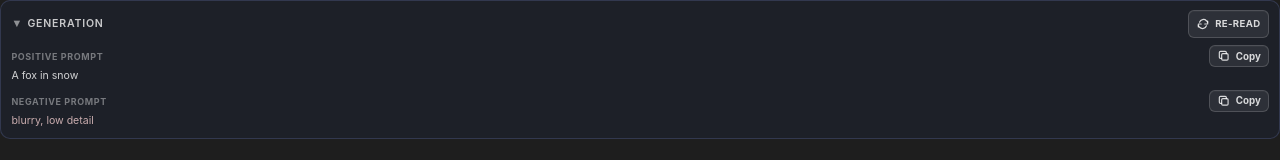
Scenario: reusable metadata content sections › copies each prompt with its own button and says whether it worked
Click the button with aria-label "Copy positive prompt".
click(1239, 56)  # box [1209,46,1269,68]
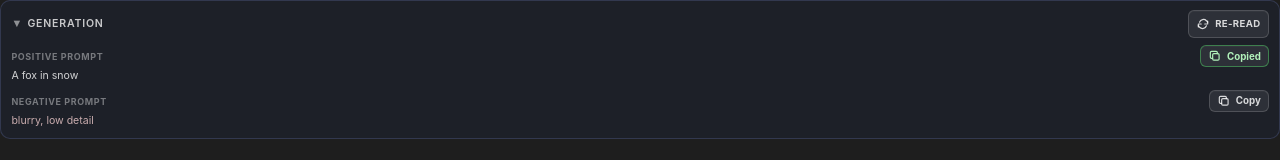
Now the button with aria-label "Copy positive prompt" reads "Copied", box [1200,46,1269,68]
Click the button with aria-label "Copy negative prompt".
click(1239, 101)  # box [1209,90,1269,112]
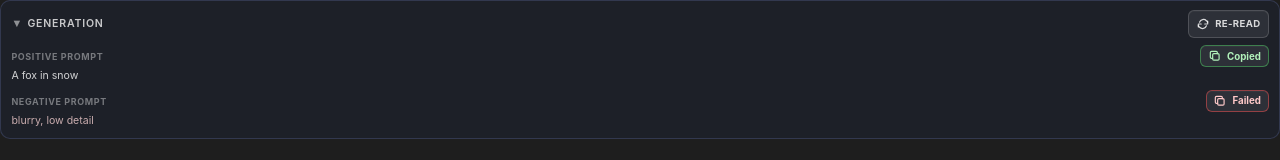
Now the button with aria-label "Copy negative prompt" reads "Failed", box [1206,90,1269,112]
